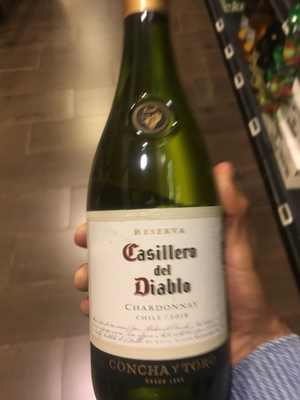casillero del diablo chardonnay: (90, 14, 240, 400)
